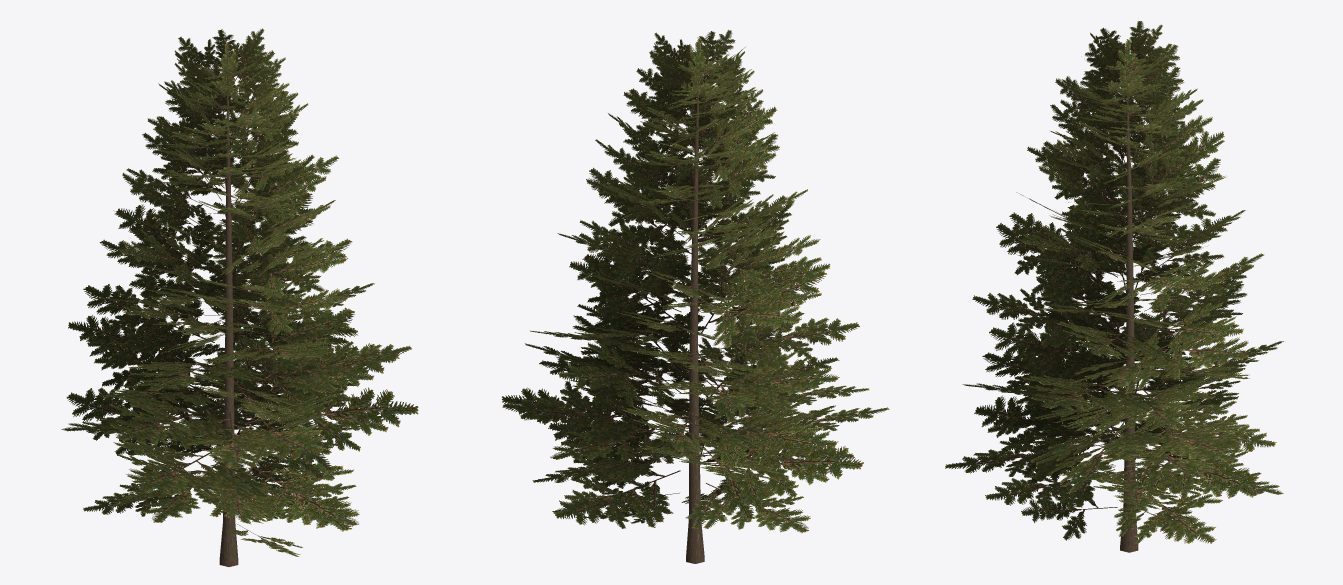
File: fir_small_a_lod3.gltf
3 renders of one model, left to right at view 1: azimuth 30°, elevation 25°; view 2: azimuth 150°, elevation 25°; view 3: azimuth 270°, elevation 25°, orthographic. The views are drawn at different scales.
Visible parts, largest first — view 1: fir_small_a_LOD3; view 2: fir_small_a_LOD3; view 3: fir_small_a_LOD3.
Boxes of the visible parts, x1,y1,x2,y2 form: fir_small_a_LOD3: [61, 28, 418, 566]; fir_small_a_LOD3: [502, 29, 889, 563]; fir_small_a_LOD3: [945, 21, 1283, 552].
Bounding box in the file's own units: 8.68 × 11.4 × 8.06.
2 materials, 2 textured.
